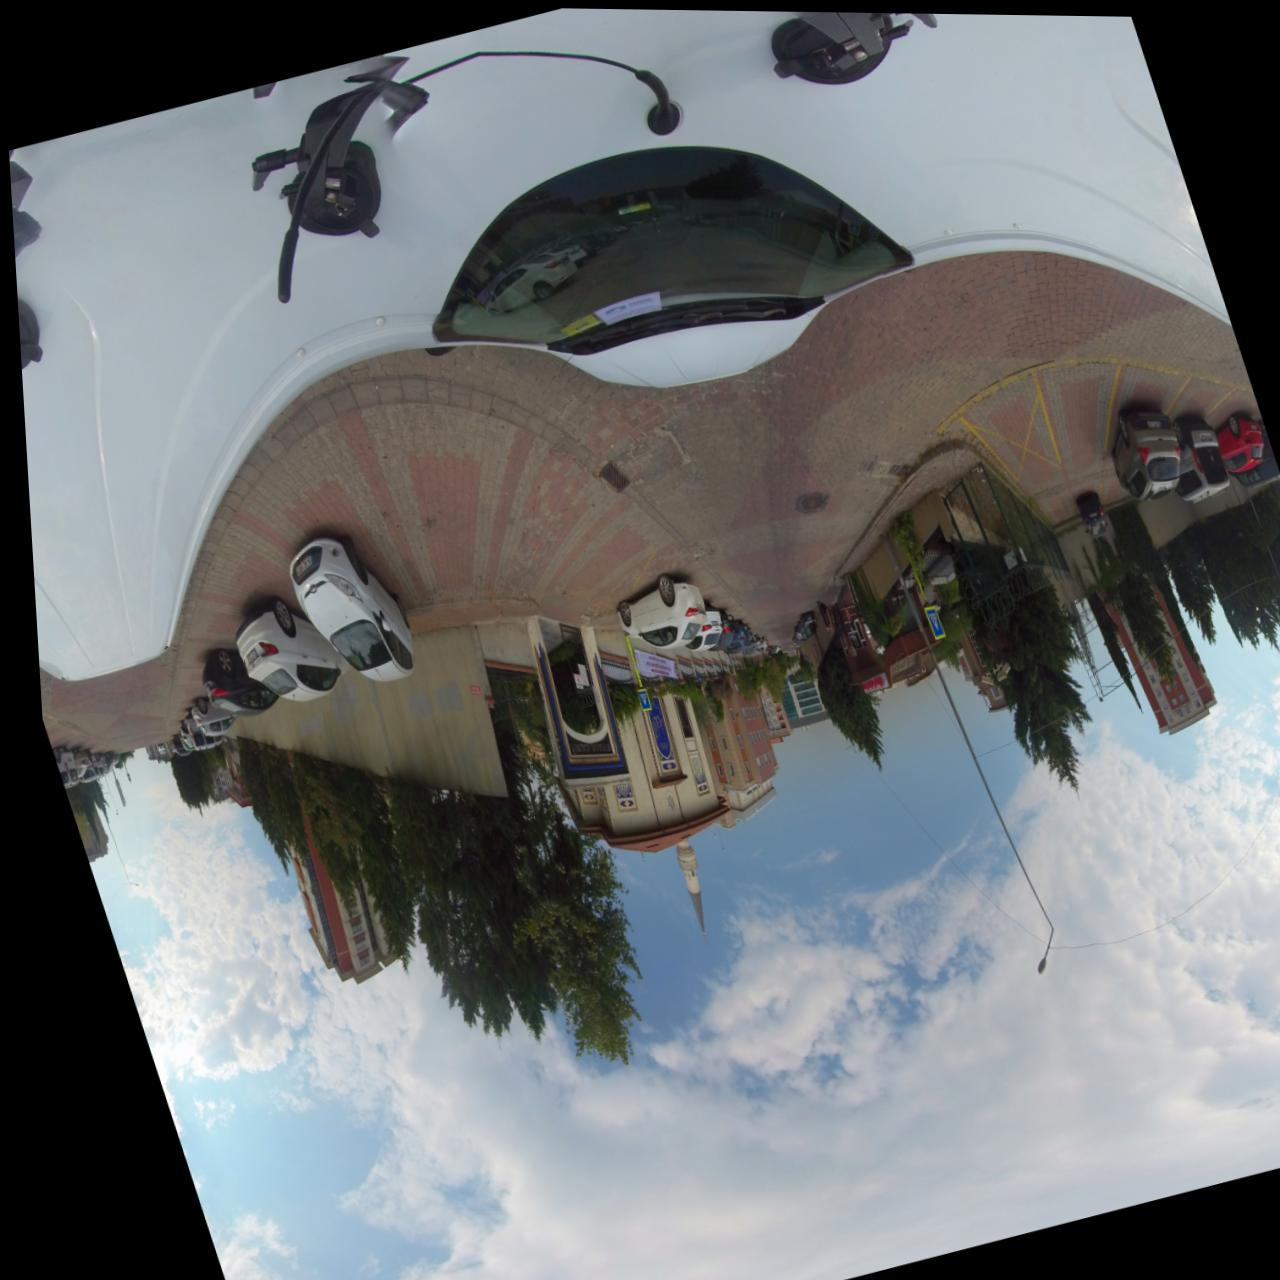SignStore: (851, 667, 878, 689)
